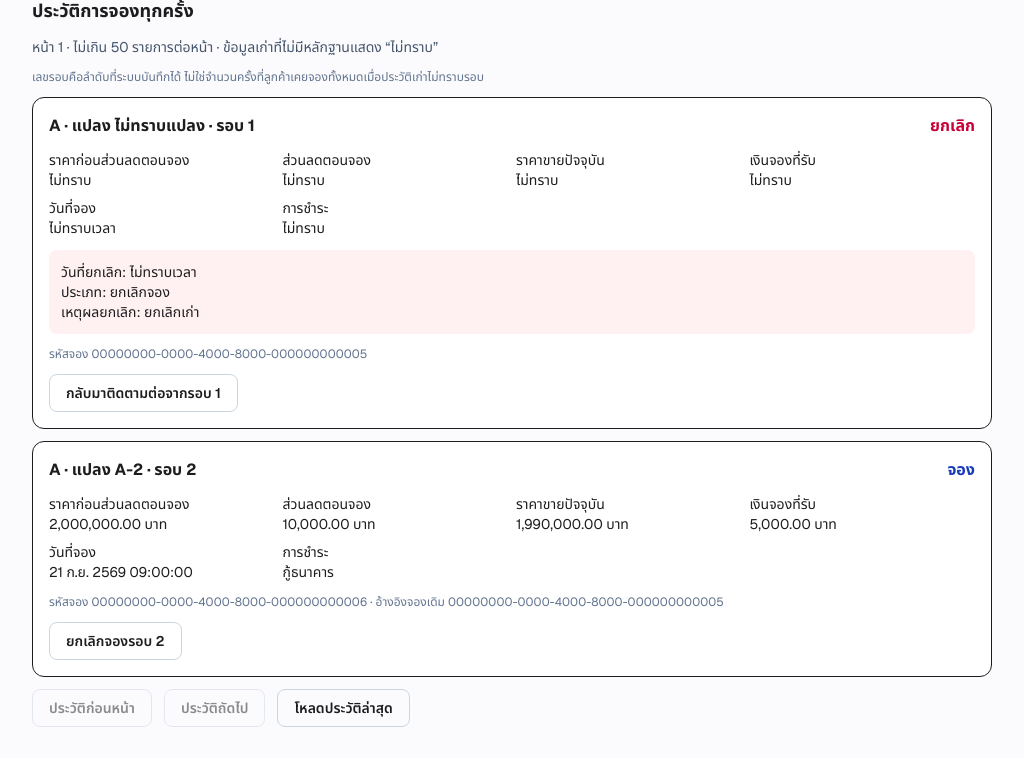
it: central booking workspace › blocks send when write-ahead storage fails
The image size is (1024, 758).
(page scrolled)
Click the button "ยกเลิกจองรอบ 2" at (115, 641), box [49,622,182,660]
(page scrolled)
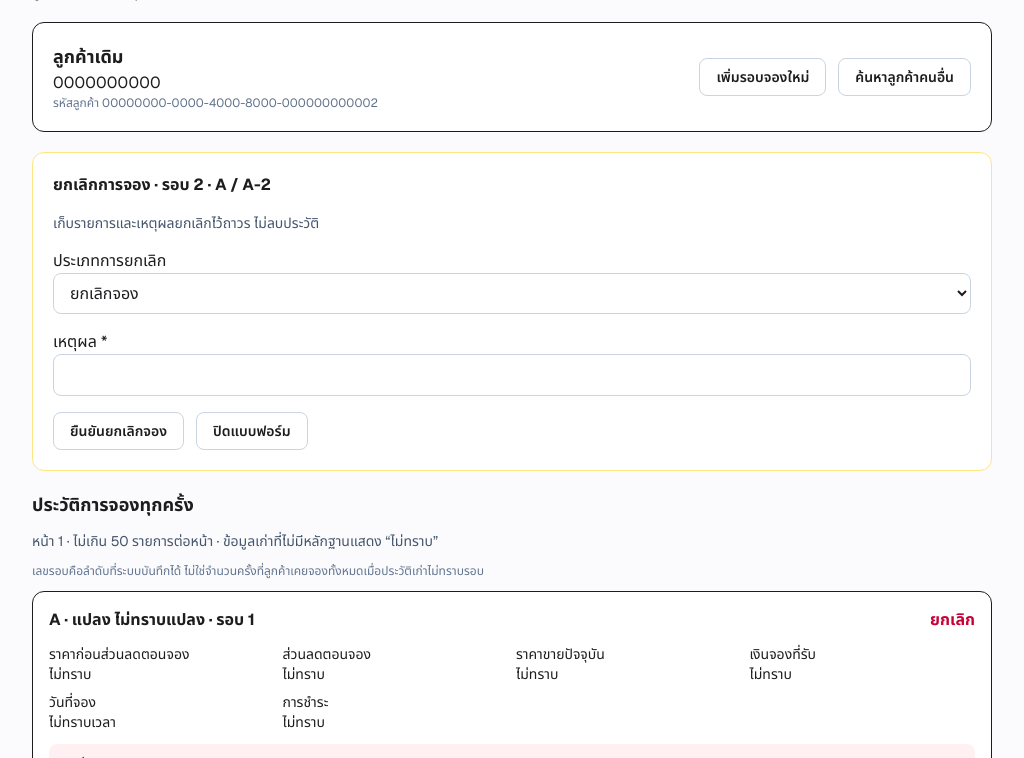
Type "ลูกค้าขอยกเลิก" into the field labelled "เหตุผล *" at (512, 375), box [53,354,971,396]
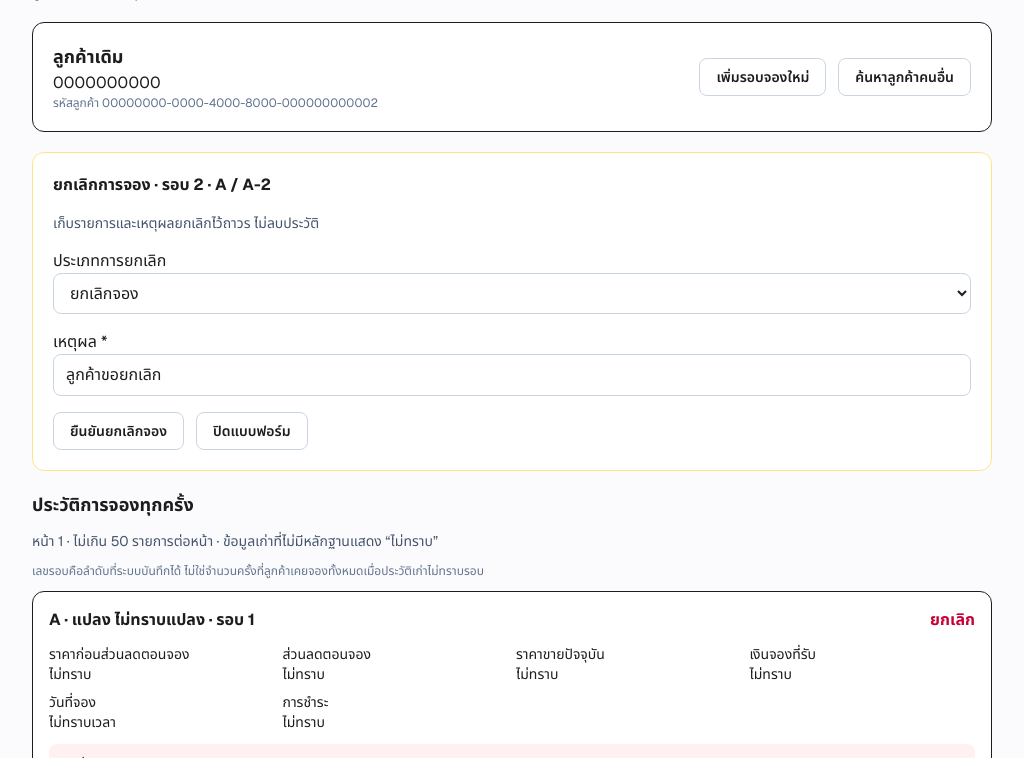
Submit the form "ยกเลิกการจอง", box [32,152,992,471]
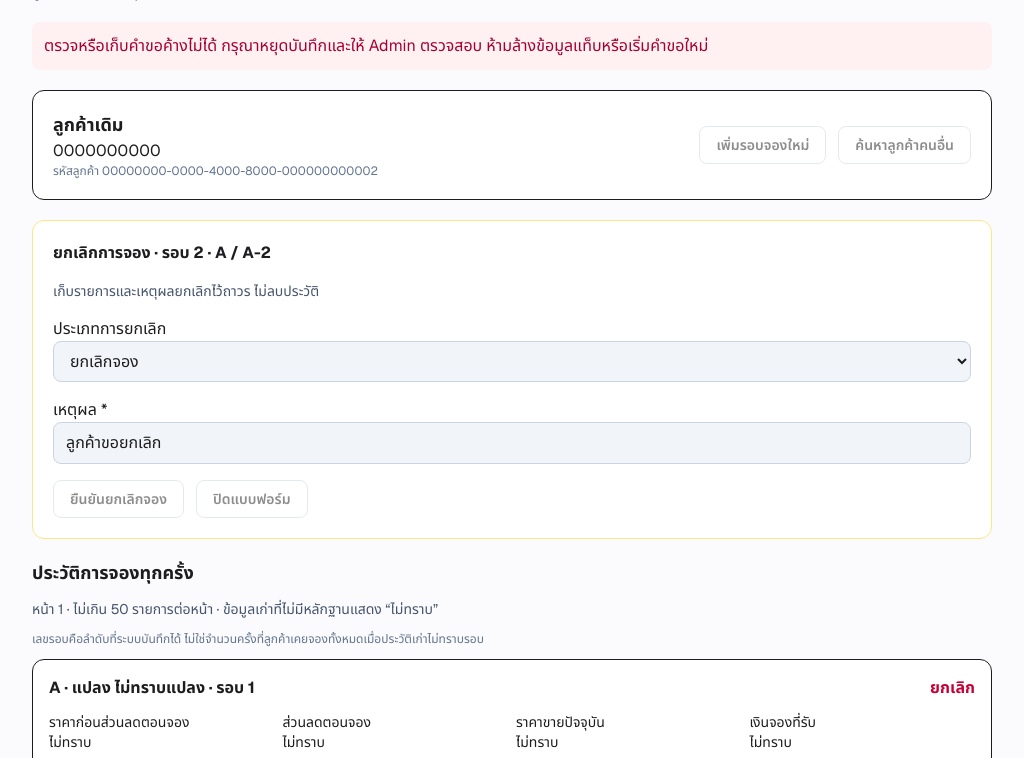
Check: the message shows "หยุดบันทึก", box [44,35,708,56]
